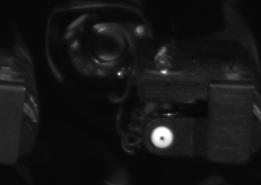fiber: (147, 122, 180, 154)
